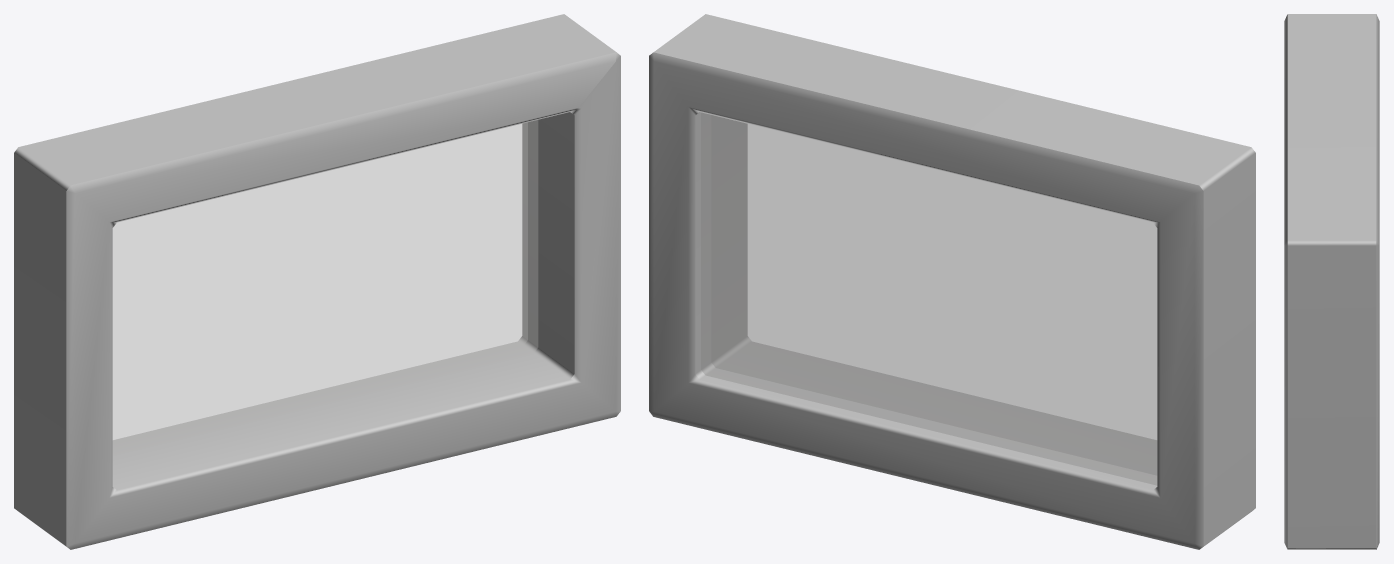
File: Window_21.fbx
3 renders of one model, left to right at view 1: azimuth 30°, elevation 25°; view 2: azimuth 150°, elevation 25°; view 3: azimuth 270°, elevation 25°, orthographic. The views are drawn at different scales.
Visible parts, largest first — view 1: Window_21; view 2: Window_21; view 3: Window_21.
Boxes of the visible parts, x1,y1,x2,y2 form: Window_21: (14,14,620,549); Window_21: (649,14,1255,549); Window_21: (1284,14,1379,549).
Bounding box in the file's own units: 242 × 152 × 42.45.
